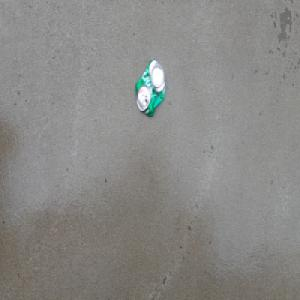SodaCan: (134, 57, 167, 118)
